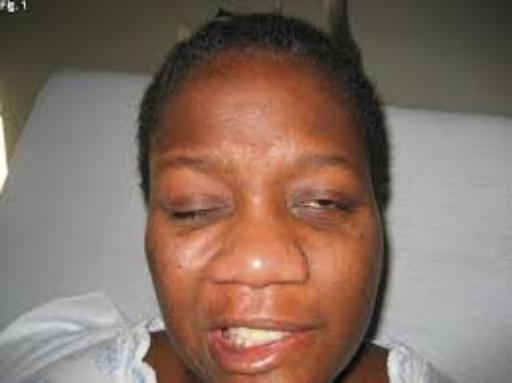left_eye: (296, 199, 352, 218)
left_lip_corner: (299, 321, 327, 340)
right_eye: (161, 202, 230, 227)
right_lip_corner: (202, 321, 237, 342)
